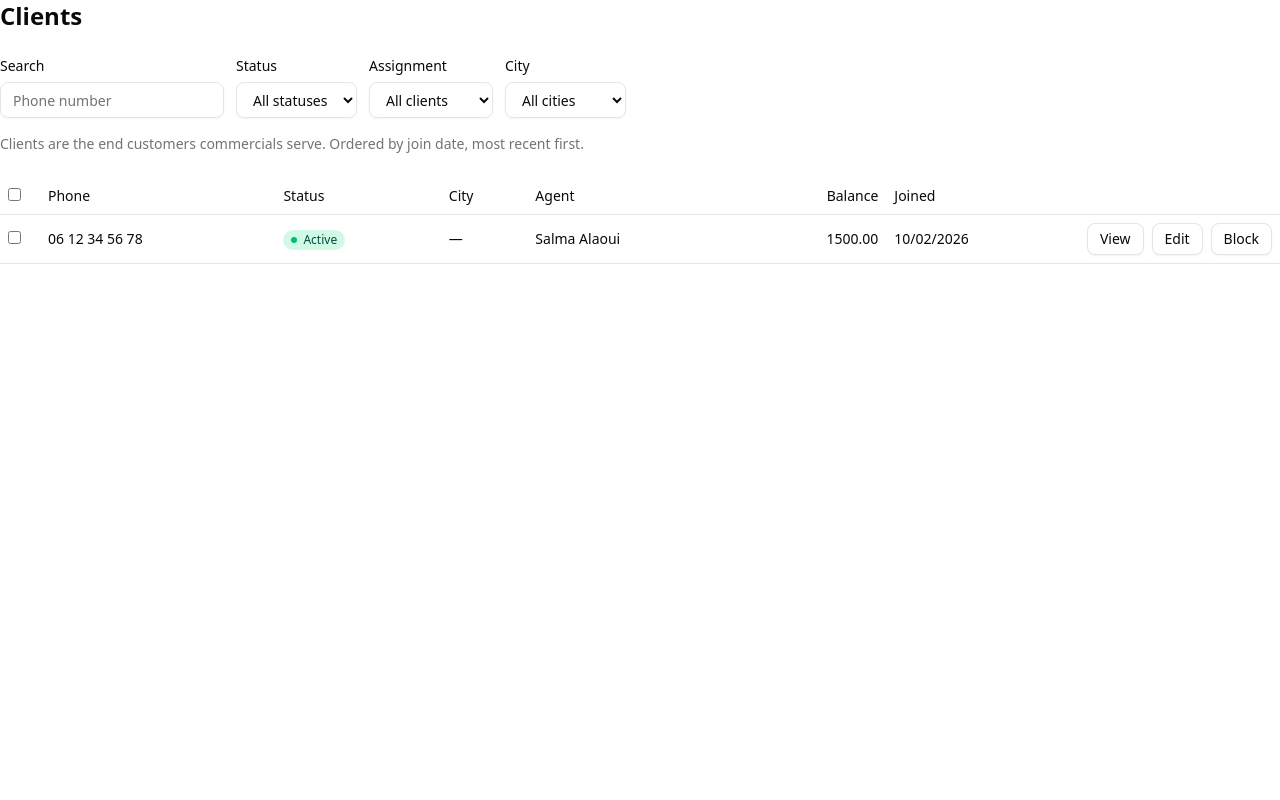
Scenario: edit › shows the placeholder for a null city
The image size is (1280, 800).
Click the button with aria-label "edit 0612345678".
click(1177, 239)  # box [1152,223,1203,255]
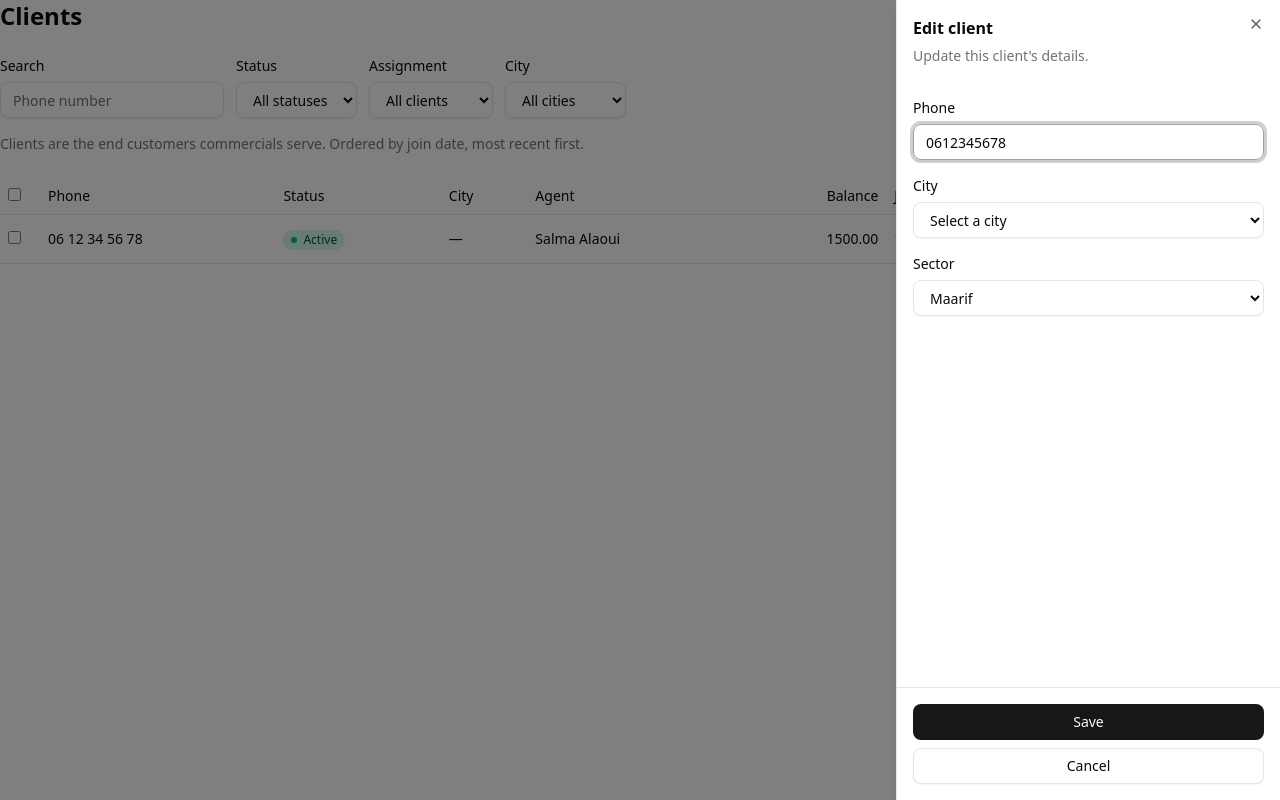
Result: the dropdown labelled "City" shows "Select a city" at [913,202,1264,238]
